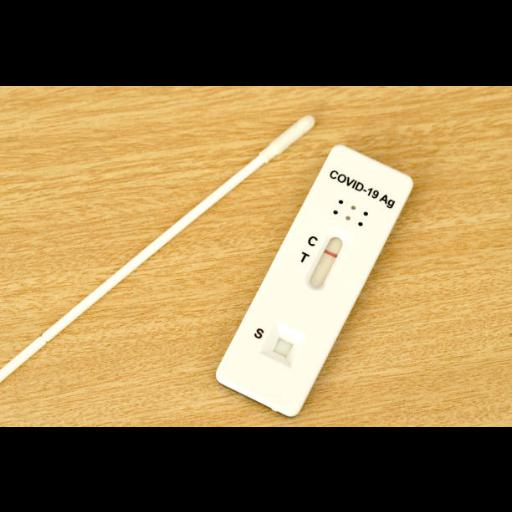Neg: (212, 145, 414, 418)
